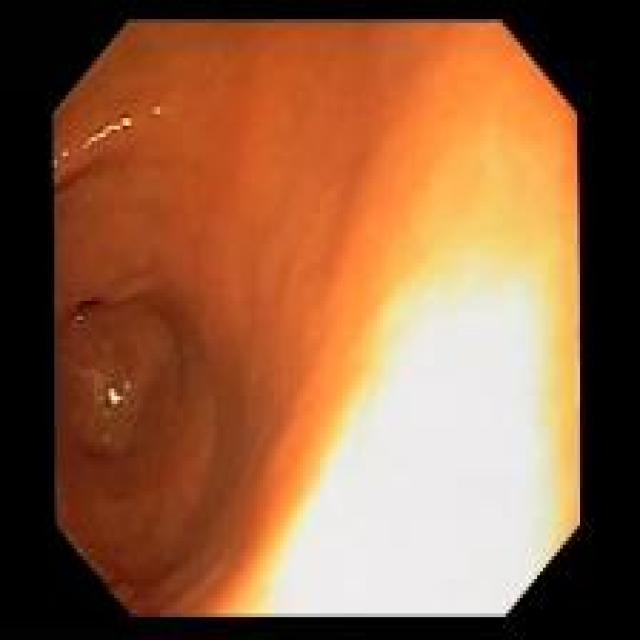saturation: (363, 23, 579, 615), (225, 385, 578, 619)
specularity: (80, 115, 136, 156), (102, 380, 127, 413)
